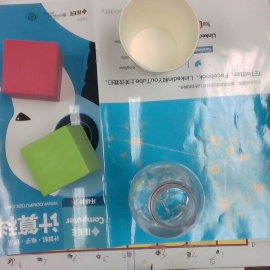bottle: (129, 162, 206, 237)
cup: (117, 1, 199, 71)
